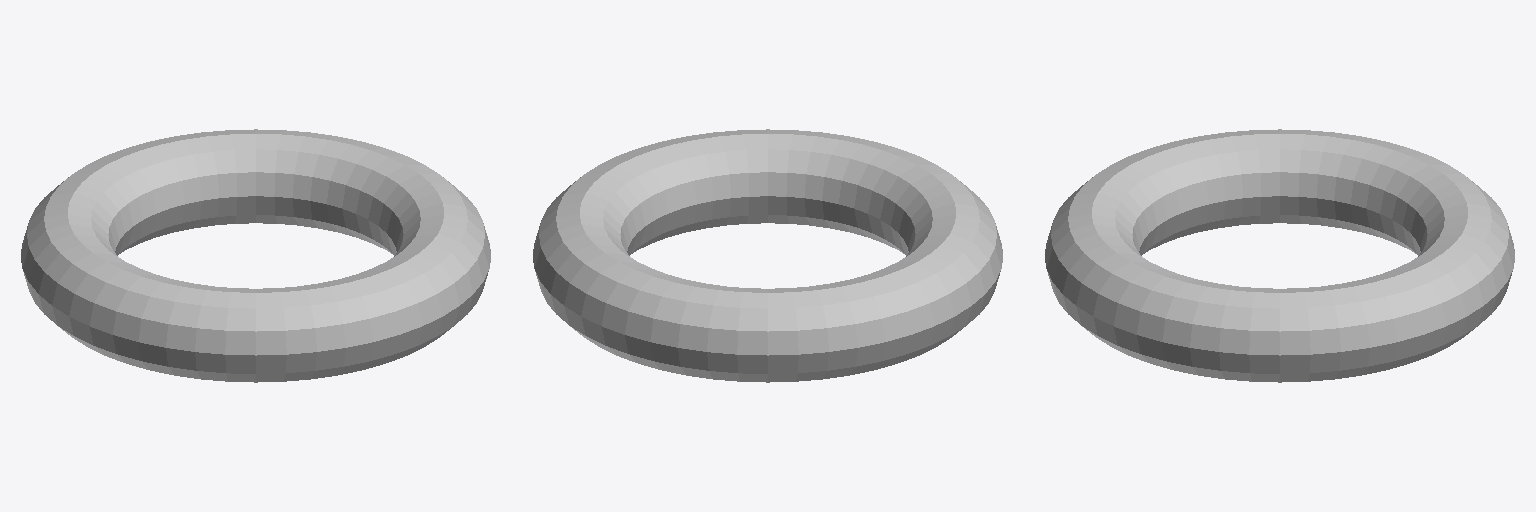
Rendered from toroide.obj.
3 renders of one model, left to right at view 1: azimuth 30°, elevation 25°; view 2: azimuth 150°, elevation 25°; view 3: azimuth 270°, elevation 25°, orthographic.
Visible parts, largest first — view 1: Torus; view 2: Torus; view 3: Torus.
Boxes of the visible parts, <box> form: Torus: <box>21,129,490,382</box>; Torus: <box>533,129,1002,382</box>; Torus: <box>1045,129,1514,382</box>.
Bounding box in the file's own units: 2.5 × 0.5 × 2.5.